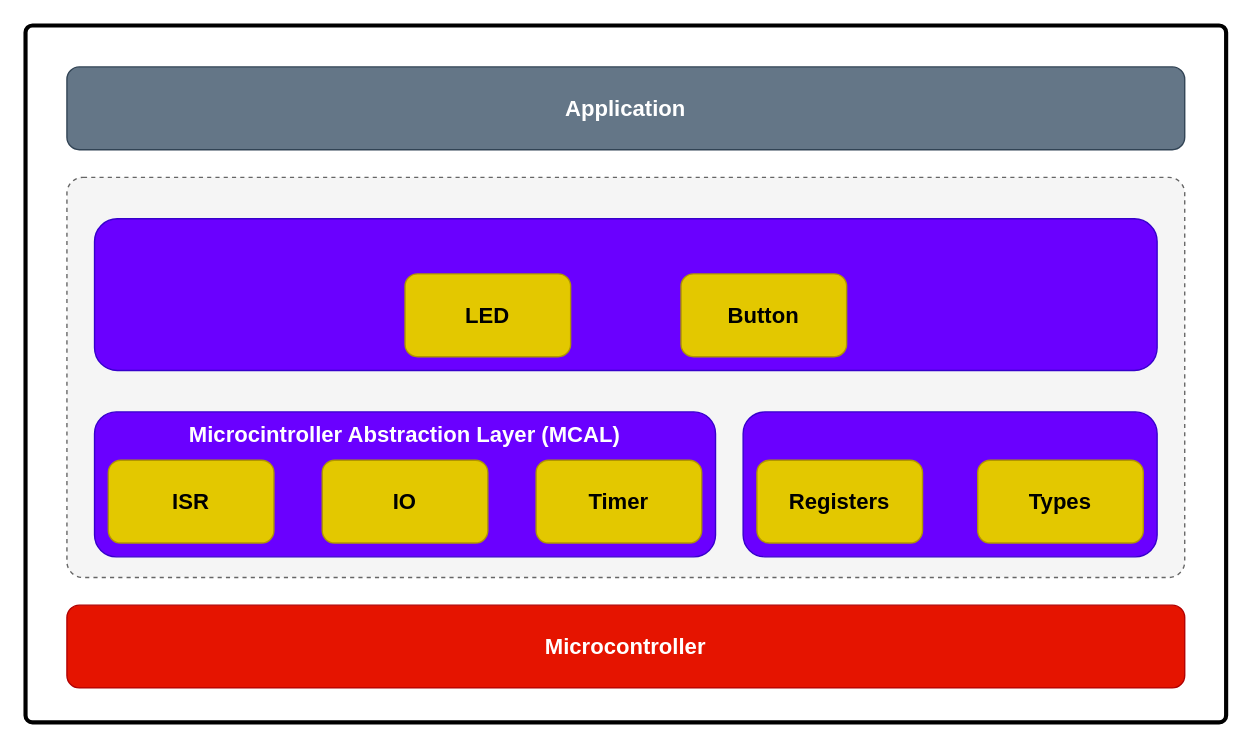
This 1252x748 diagram has some shape labels left out. Here are the shapes that lost their labels. From the top down, the box of each, then its label:
(93, 217, 1157, 371): Electronic Control Unit Abstraction Layer (ECUAL)
(66, 176, 1185, 578): Hardware Abstraction Layer (HAL)
(742, 411, 1157, 557): Utilities
